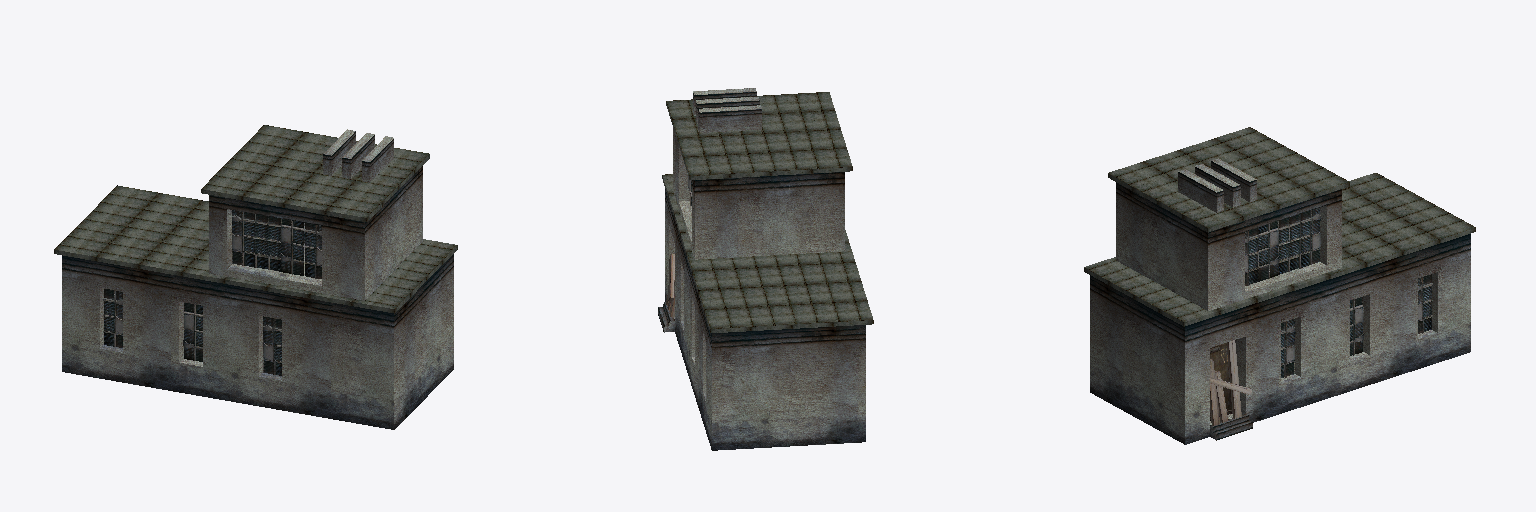
3 renders of one model, left to right at view 1: azimuth 30°, elevation 25°; view 2: azimuth 150°, elevation 25°; view 3: azimuth 270°, elevation 25°, orthographic.
Bounding box in the file's own units: 232 × 167 × 257.
Materials: 5 (5 with a texture image).